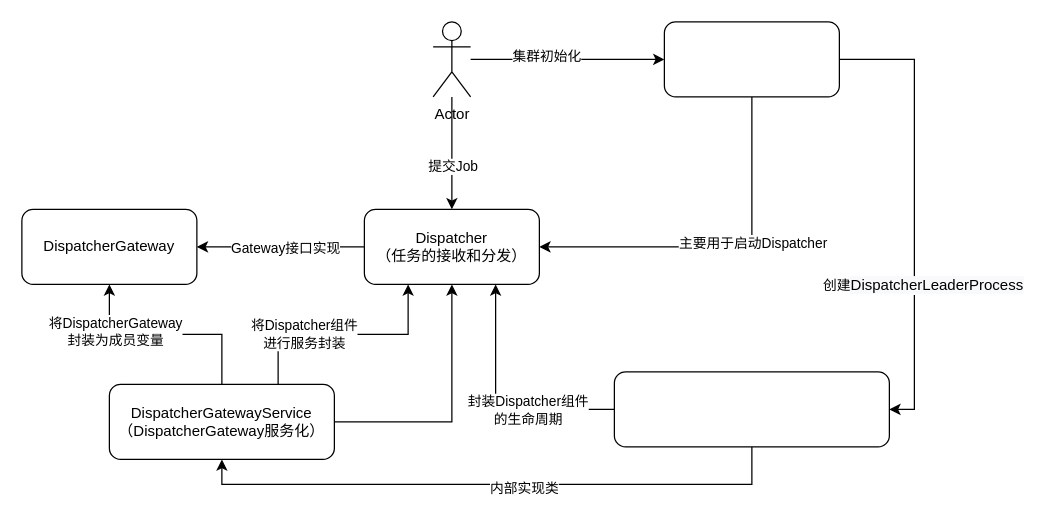
The diagram is 1044 pixels wide and 518 high, and some of its shapes have lost their labels. The box of each missing label's shape, as (x1, y1, x2, y2) in pixels:
DispatcherLeaderProcess （Job恢复和Dispatcher生命周期管理）: (613, 371, 889, 447)
DispatcherRunner （Dispatcher执行）: (663, 21, 839, 97)
